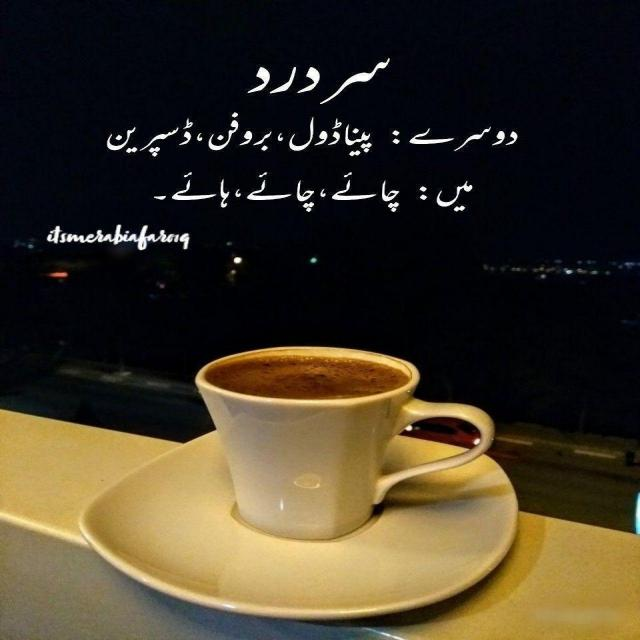cup-handle: (193, 345, 496, 542)
